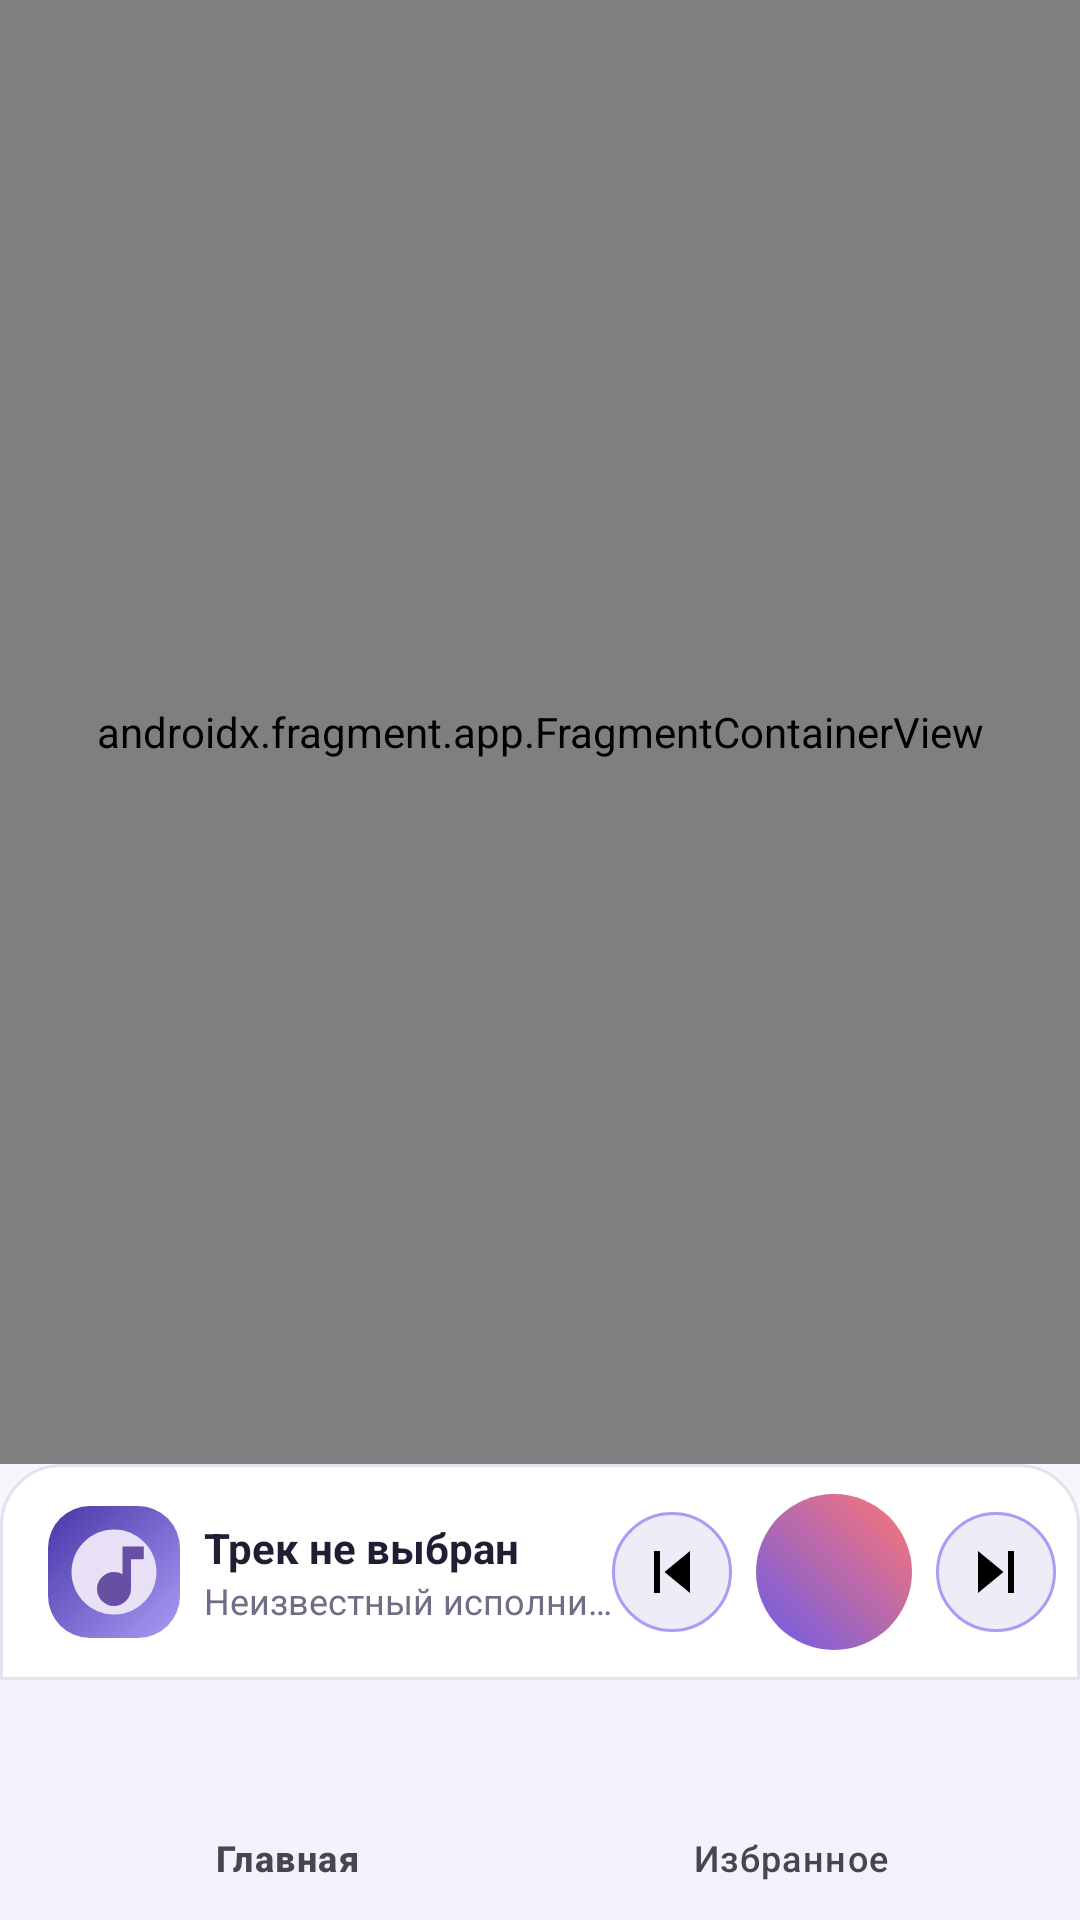

Point at icon controls on the screen. Image size 1080*1920, points as point (x, y).
Предыдущий: point (672, 1572)
Сейчас играет: point (114, 1572)
Следующий: point (996, 1572)
